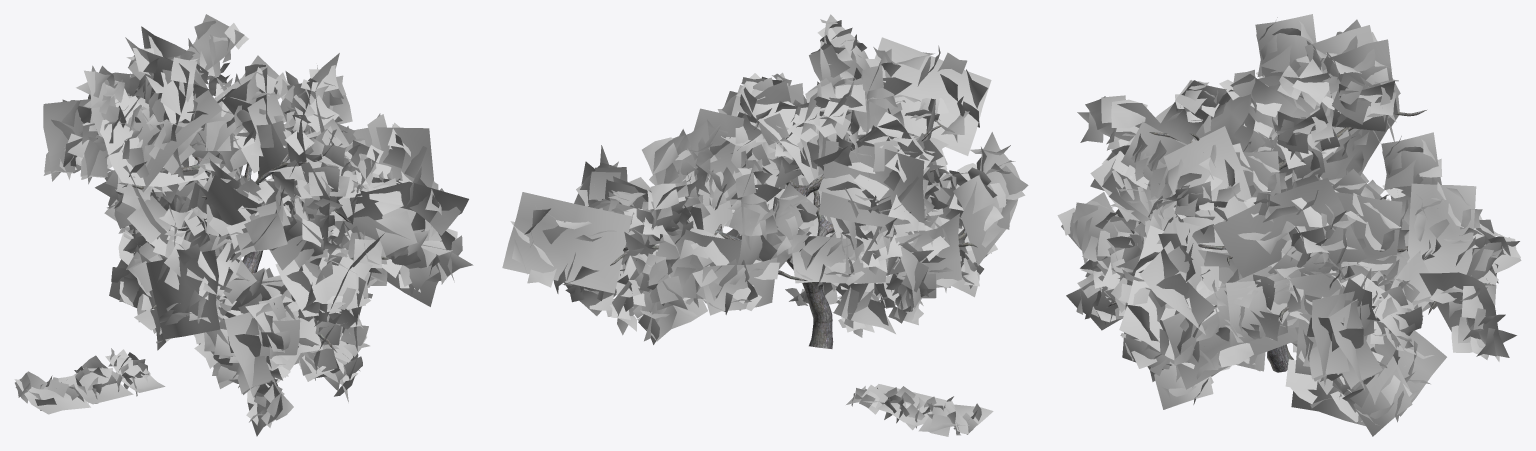
The model's file is tree2_top.fbx.
The picture shows the model from 3 angles, left to right: view 1: azimuth 30°, elevation 25°; view 2: azimuth 150°, elevation 25°; view 3: azimuth 270°, elevation 25°; orthographic projection. The views are drawn at different scales.
Visible parts, largest first — view 1: tree2_top|branch2-2|Dupli|40, tree2_top|branch2-2|Dupli|58, tree2_top|branch2-3|Dupli|57, tree2_top|branch2-3|Dupli|24, tree2_top|branch2-1|Dupli|23, tree2_top|branch2-3|Dupli|78, tree2_top|branch2-1|Dupli|44, tree2_top|branch2-2|Dupli|46, tree2_top|branch2-3|Dupli|75, tree2_top|branch2-2|Dupli|43, tree2_top|branch2-3|Dupli|63, tree2_top|branch2-3|Dupli|39 (+39 smaller); view 2: tree2_top|branch2-2|Dupli|52, tree2_top|branch2-2|Dupli|46, tree2_top|branch2-3|Dupli|21, tree2_top|branch2-2|Dupli|40, tree2_top|branch2-3|Dupli|39, tree2_top|branch2-1|Dupli|41, tree2_top|branch2-1|Dupli|35, tree2_top|branch2-1|Dupli|29, tree2_top|branch2-3|Dupli|36, tree2_top|branch2-1|Dupli|17, tree2_top|branch2-2|Dupli|4, tree2_top (+35 smaller); view 3: tree2_top|branch2-2|Dupli|55, tree2_top|branch2-2|Dupli|37, tree2_top|branch2-2|Dupli|70, tree2_top|branch2-2|Dupli|49, tree2_top|branch2-3|Dupli|57, tree2_top|branch2-2|Dupli|52, tree2_top|branch2-1|Dupli|5, tree2_top|branch2-2|Dupli|4, tree2_top|branch2-3|Dupli|24, tree2_top|branch2-2|Dupli|58, tree2_top|branch2-3|Dupli|, tree2_top|branch2-1|Dupli|35 (+40 smaller).
Part boxes in pixels (bbox=[...]): tree2_top|branch2-2|Dupli|40: bbox=[146, 243, 229, 339]; tree2_top|branch2-2|Dupli|58: bbox=[334, 210, 473, 291]; tree2_top|branch2-3|Dupli|57: bbox=[335, 166, 468, 243]; tree2_top|branch2-3|Dupli|24: bbox=[222, 67, 287, 181]; tree2_top|branch2-1|Dupli|23: bbox=[141, 51, 197, 180]; tree2_top|branch2-3|Dupli|78: bbox=[275, 248, 365, 321]; tree2_top|branch2-1|Dupli|44: bbox=[201, 174, 328, 270]; tree2_top|branch2-2|Dupli|46: bbox=[223, 148, 310, 261]; tree2_top|branch2-3|Dupli|75: bbox=[345, 114, 434, 187]; tree2_top|branch2-2|Dupli|43: bbox=[126, 70, 222, 192]; tree2_top|branch2-3|Dupli|63: bbox=[224, 289, 300, 397]; tree2_top|branch2-3|Dupli|39: bbox=[109, 228, 162, 336]; tree2_top|branch2-2|Dupli|52: bbox=[502, 192, 632, 293]; tree2_top|branch2-2|Dupli|46: bbox=[874, 37, 991, 155]; tree2_top|branch2-3|Dupli|21: bbox=[819, 140, 925, 235]; tree2_top|branch2-2|Dupli|40: bbox=[953, 132, 1028, 265]; tree2_top|branch2-3|Dupli|39: bbox=[895, 213, 962, 308]; tree2_top|branch2-1|Dupli|41: bbox=[692, 257, 779, 315]; tree2_top|branch2-1|Dupli|35: bbox=[728, 158, 781, 264]; tree2_top|branch2-1|Dupli|29: bbox=[788, 232, 888, 286]; tree2_top|branch2-3|Dupli|36: bbox=[656, 221, 741, 310]; tree2_top|branch2-1|Dupli|17: bbox=[736, 73, 814, 183]; tree2_top|branch2-2|Dupli|4: bbox=[642, 121, 713, 227]; tree2_top: bbox=[610, 125, 977, 348]; tree2_top|branch2-2|Dupli|55: bbox=[1213, 178, 1367, 277]; tree2_top|branch2-2|Dupli|37: bbox=[1407, 182, 1483, 275]; tree2_top|branch2-2|Dupli|70: bbox=[1162, 265, 1297, 389]; tree2_top|branch2-2|Dupli|49: bbox=[1163, 126, 1253, 234]; tree2_top|branch2-3|Dupli|57: bbox=[1140, 212, 1218, 337]; tree2_top|branch2-2|Dupli|52: bbox=[1419, 272, 1516, 361]; tree2_top|branch2-1|Dupli|5: bbox=[1225, 272, 1341, 346]; tree2_top|branch2-2|Dupli|4: bbox=[1321, 192, 1409, 296]; tree2_top|branch2-3|Dupli|24: bbox=[1193, 69, 1297, 152]; tree2_top|branch2-2|Dupli|58: bbox=[1118, 225, 1221, 368]; tree2_top|branch2-3|Dupli|: bbox=[1329, 270, 1385, 390]; tree2_top|branch2-1|Dupli|35: bbox=[1381, 132, 1442, 246].
Bounding box in the file's own units: 3121 × 2507 × 3005.
